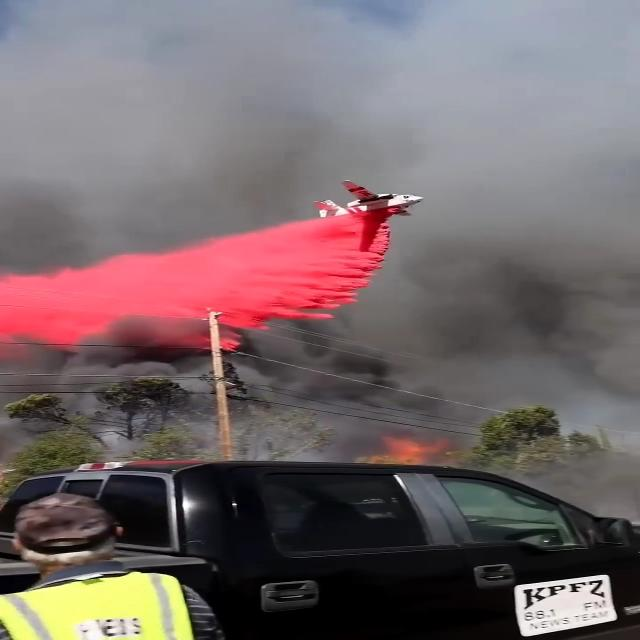Smoke: (0, 35, 318, 260), (298, 0, 640, 192), (386, 212, 640, 408), (0, 323, 371, 425)
